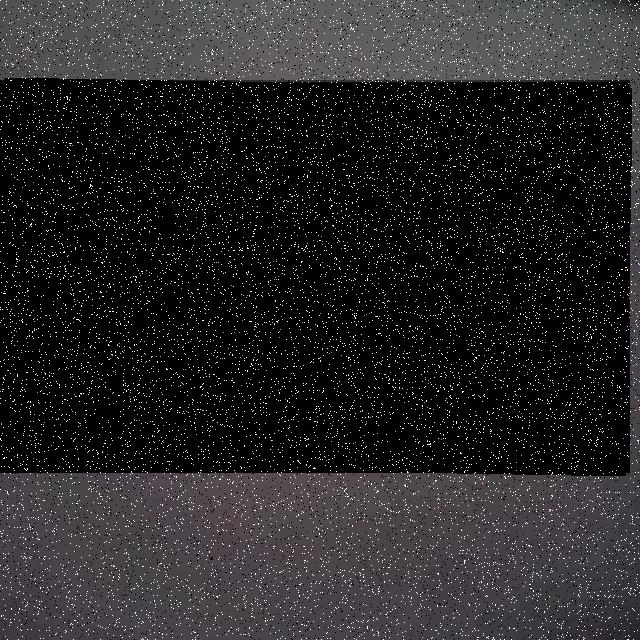dua ribu rupiah: (0, 80, 630, 473)
